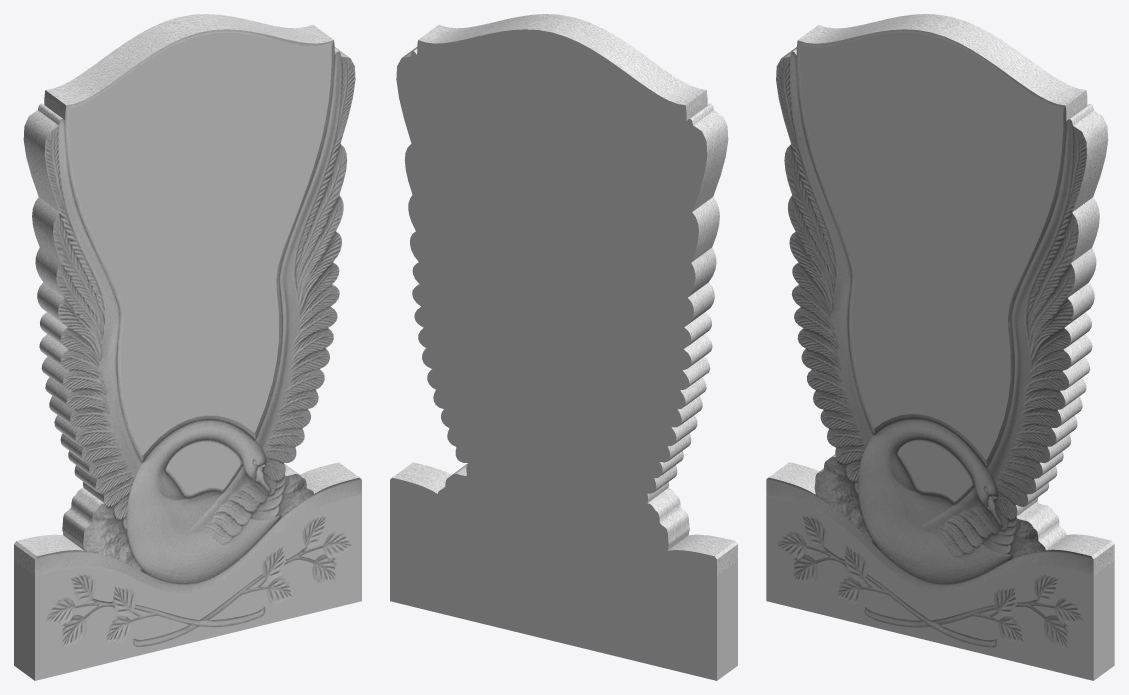
Rendered from cn39d3a87187_tkf.glb.
3 renders of one model, left to right at view 1: azimuth 30°, elevation 25°; view 2: azimuth 150°, elevation 25°; view 3: azimuth 330°, elevation 25°, orthographic.
Visible parts, largest first — view 1: Pam-d02-089, Pam-d02-089_2_notexture; view 2: Pam-d02-089, Pam-d02-089_2_notexture; view 3: Pam-d02-089, Pam-d02-089_2_notexture.
Boxes of the visible parts, box(x1,y1,x2,y2) form: Pam-d02-089: box(14, 32, 361, 680); Pam-d02-089_2_notexture: box(14, 14, 361, 648); Pam-d02-089: box(390, 29, 737, 680); Pam-d02-089_2_notexture: box(392, 14, 737, 575); Pam-d02-089: box(766, 32, 1114, 680); Pam-d02-089_2_notexture: box(766, 14, 1114, 649).
Bounding box in the file's own units: 0.45 × 0.8 × 0.05.
1 material, 1 textured.
